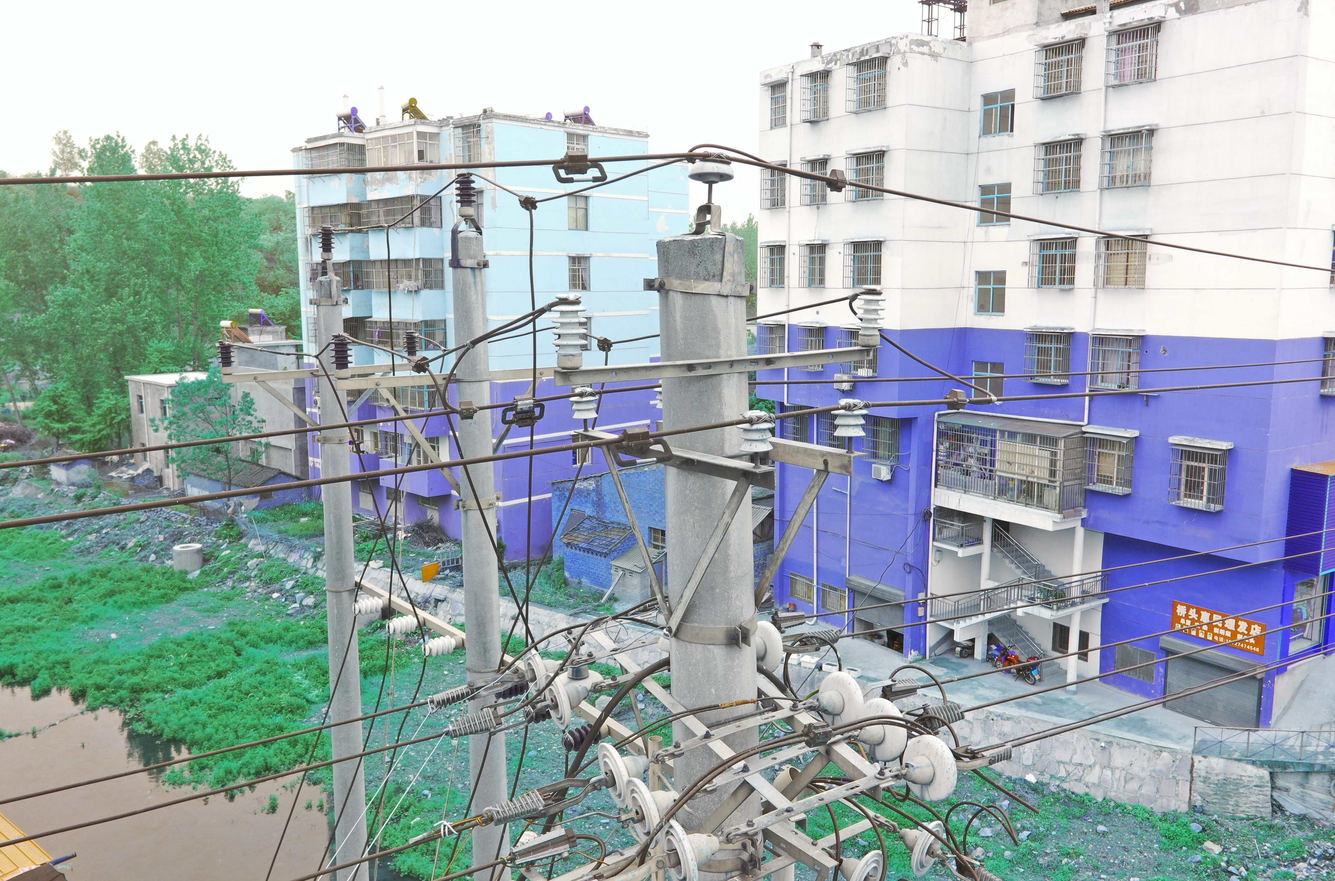severe_soiling_no_discharge_whole: (898, 730, 961, 805), (656, 815, 722, 880), (853, 695, 909, 764), (811, 669, 865, 734), (829, 395, 872, 439), (733, 410, 775, 453)
